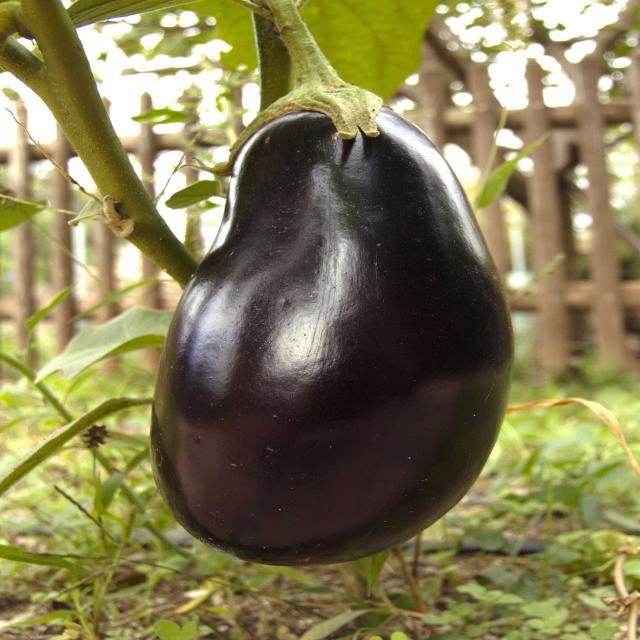Eggplant-r1Ob: (152, 0, 512, 565)
